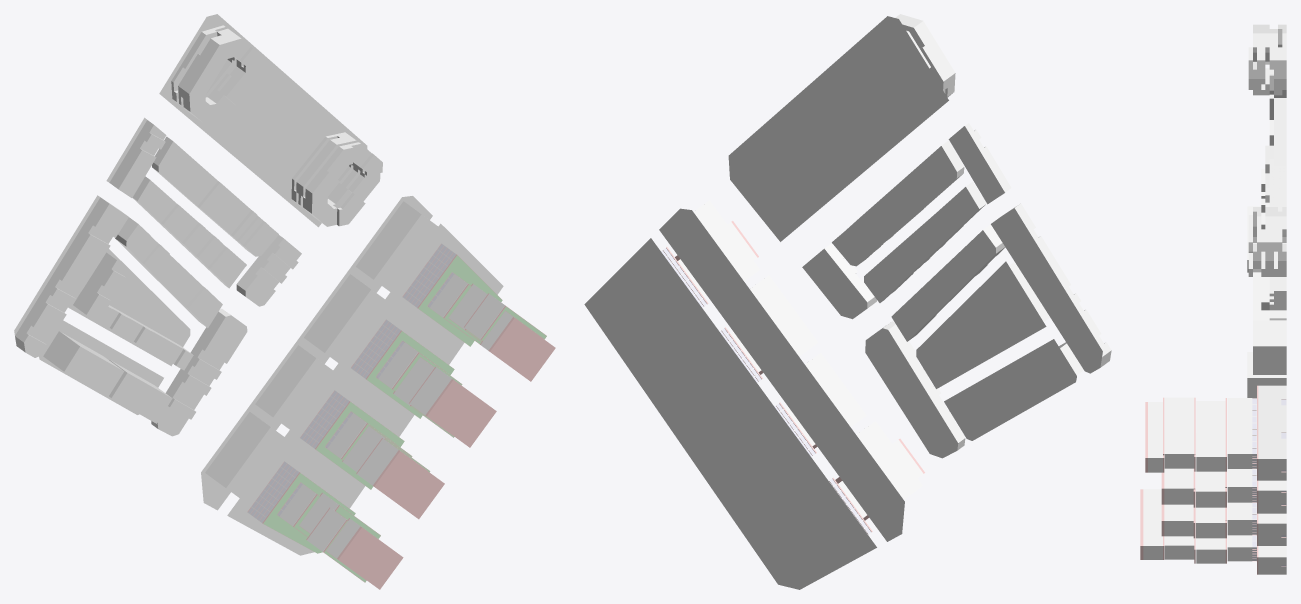
The model's file is Podium_tower_options_photo.gltf.
The picture shows the model from 3 angles, left to right: view 1: azimuth 30°, elevation 25°; view 2: azimuth 150°, elevation 25°; view 3: azimuth 270°, elevation 25°; orthographic projection. The views are drawn at different scales.
Size of the model in its own units: 375 by 412 by 104.
